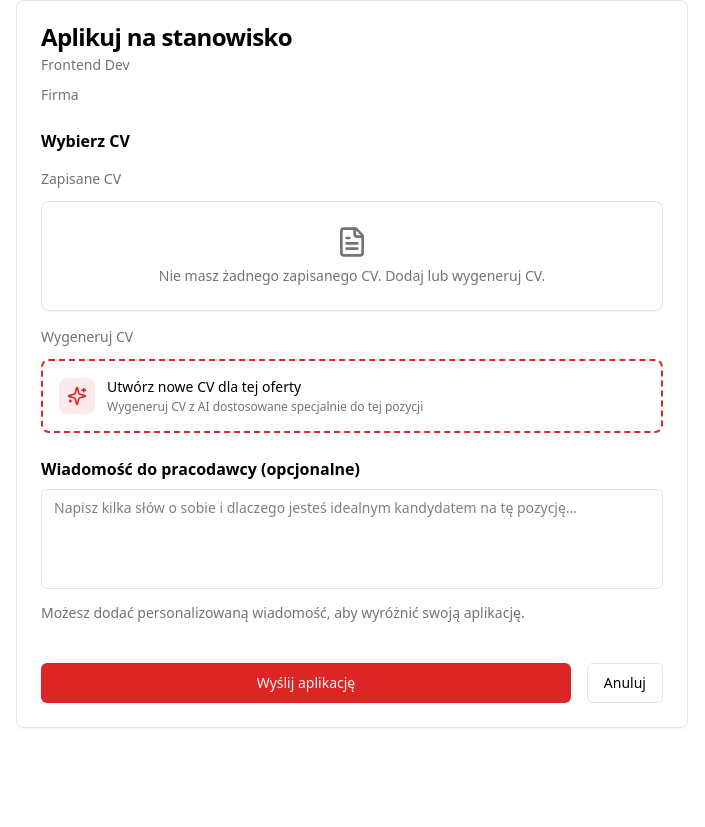
Test: JobApplicationForm › shows error when no CV selected and none available
Expected: the text "Nie masz żadnego zapisanego CV. Dodaj lub wygeneruj CV." is shown, [159,266,545,285]
Click the button "Wyślij aplikację". click: (306, 683)
box: [41,663,571,703]
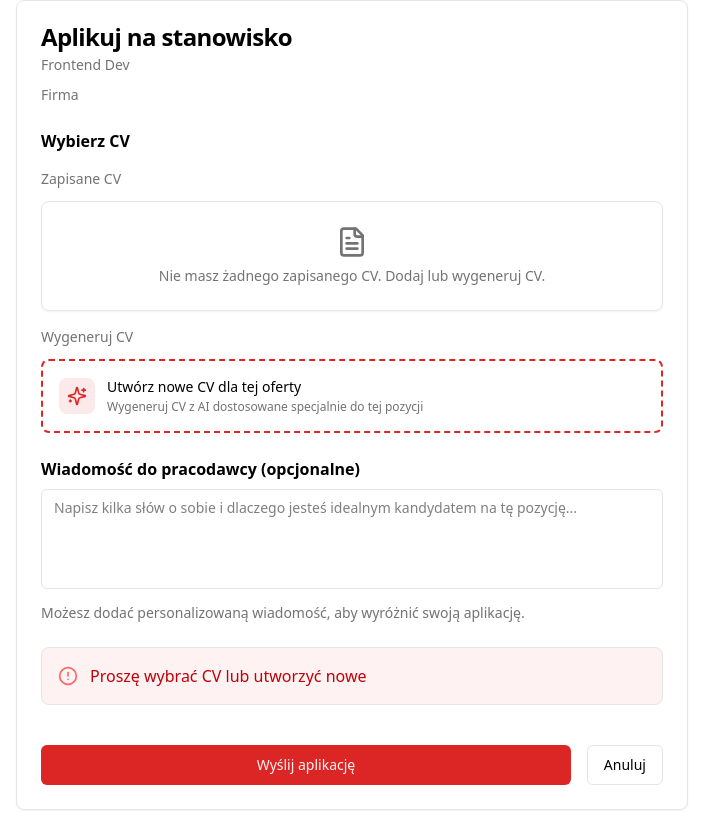
Now the text "Proszę wybrać CV lub utworzyć nowe" is shown, box [90,664,366,688]
